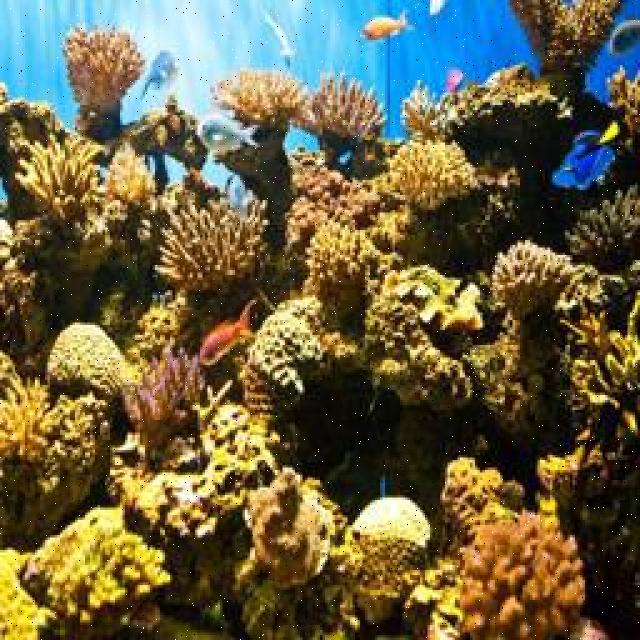fish: (200, 295, 258, 363), (197, 108, 260, 156), (142, 47, 182, 100), (361, 5, 412, 40)
reefs: (0, 0, 638, 638)
